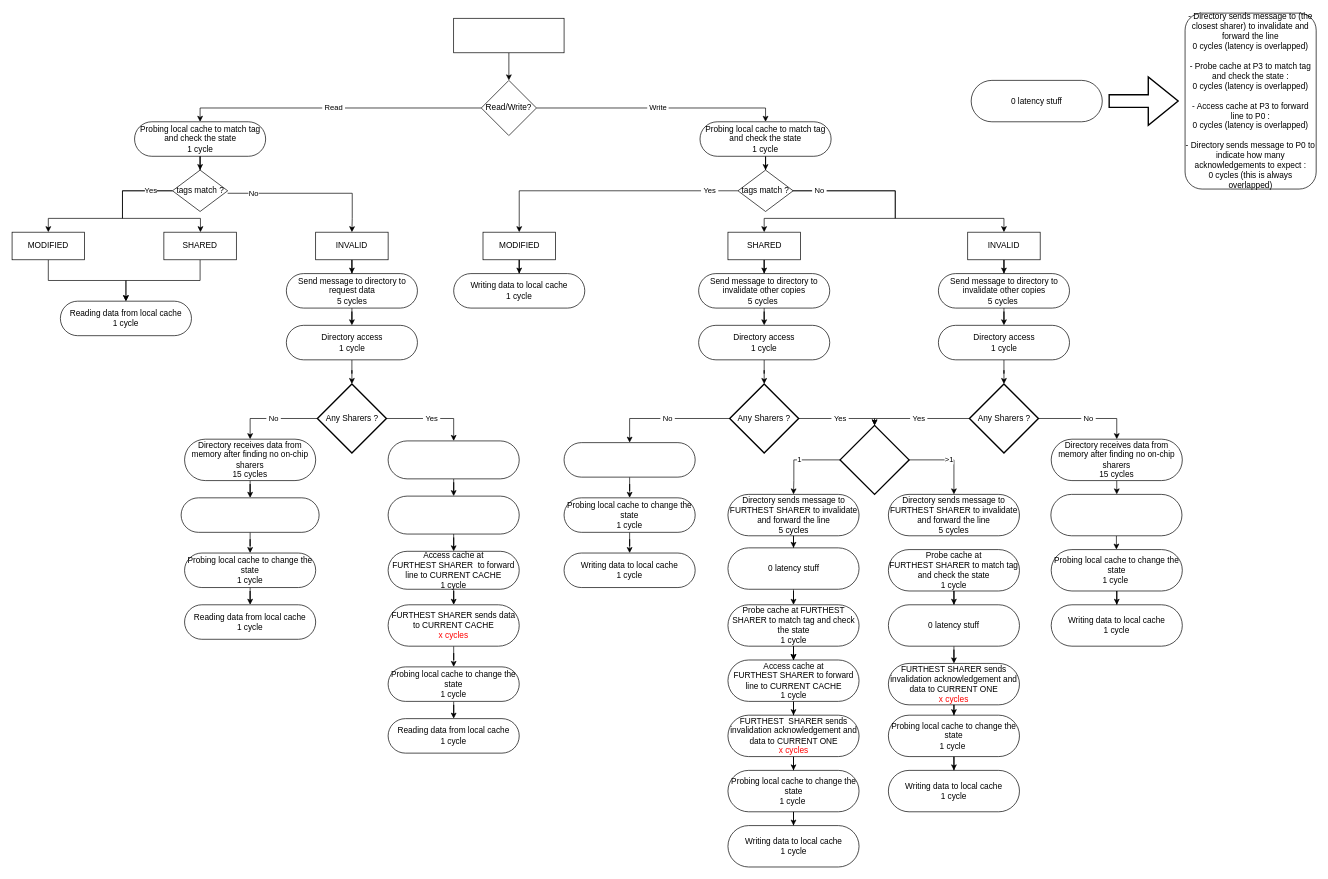
This 1328x879 diagram has some shape labels left out. The shapes that lost their labels are listed below. From the top down, each one's box as (x1, y1, x2, y2) in pixels, then its label:
(453, 18, 564, 53): Address Aproporite Processor/Cache
(1108, 76, 1179, 126): Not needed to wrok
(387, 440, 519, 479): Directory sends message to FURTHEST SHARER to forward the line 5 cycles
(563, 442, 695, 477): Directory responds that there are no sharers 5 cycles
(839, 424, 909, 495): How many sharers ?
(180, 497, 319, 532): Directory sends data to CURRENT CACHE 5 cycles
(387, 495, 519, 534): Probe cache at FURTHEST SHARER to match tag and check state 1 cycle
(1050, 494, 1182, 536): Directory sends data to P0 5 cycles
